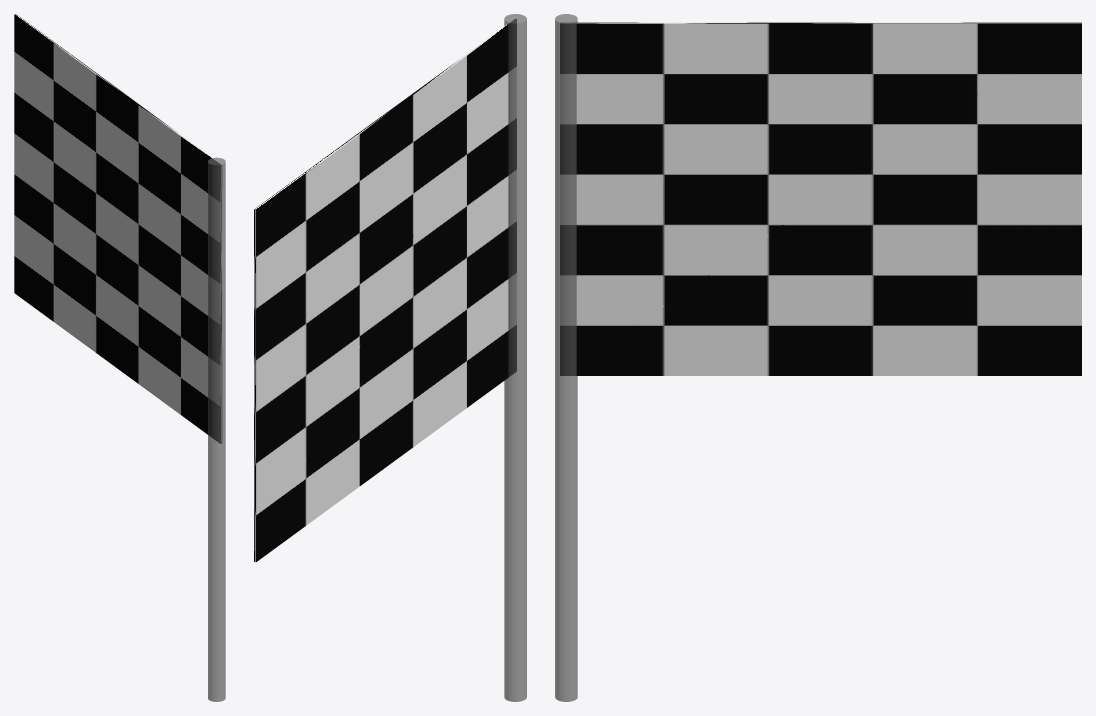
File: drapeau_cars.glb
3 views of the same model, side by side, from view 1: azimuth 30°, elevation 25°; view 2: azimuth 150°, elevation 25°; view 3: azimuth 270°, elevation 25° (orthographic). The views are drawn at different scales.
Visible parts, largest first — view 1: Cube, Cylindre (×2); view 2: Cube, Cylindre (×2); view 3: Cube, Cylindre (×2).
Boxes of the visible parts, x1,y1,x2,y2 form: Cube: (14, 14, 221, 443); Cylindre (×2): (208, 158, 225, 701); Cube: (254, 19, 516, 562); Cylindre (×2): (504, 14, 526, 701); Cube: (560, 22, 1081, 375); Cylindre (×2): (555, 14, 577, 701).
Size of the model in its own units: 0.1455 by 4.84 by 3.4.
2 materials, 1 textured.
